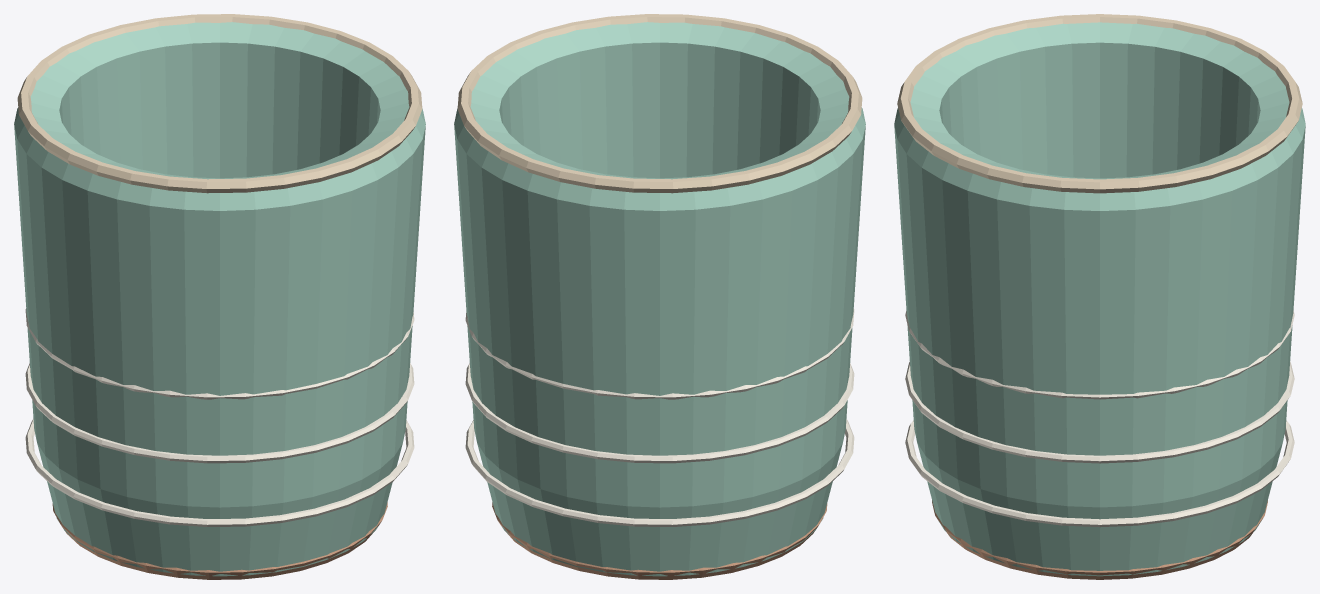
File: kitchen_yunomi.glb
The picture shows the model from 3 angles, left to right: view 1: azimuth 30°, elevation 25°; view 2: azimuth 150°, elevation 25°; view 3: azimuth 270°, elevation 25°; orthographic projection.
Parts seen in each view (by area): view 1: Yunomi tapered glazed vessel, Subtle rim gold, Throwing spiral, Throwing spiral.001, Ground ceramic foot, Throwing spiral.002; view 2: Yunomi tapered glazed vessel, Subtle rim gold, Throwing spiral, Throwing spiral.001, Ground ceramic foot, Throwing spiral.002; view 3: Yunomi tapered glazed vessel, Subtle rim gold, Throwing spiral, Throwing spiral.001, Ground ceramic foot, Throwing spiral.002.
Part boxes in pixels (<box>): Yunomi tapered glazed vessel: <box>14,22,425,576</box>; Subtle rim gold: <box>17,14,422,193</box>; Throwing spiral: <box>25,419,414,526</box>; Throwing spiral.001: <box>25,363,414,463</box>; Ground ceramic foot: <box>52,502,387,579</box>; Throwing spiral.002: <box>25,308,414,399</box>; Yunomi tapered glazed vessel: <box>454,22,865,576</box>; Subtle rim gold: <box>457,14,862,193</box>; Throwing spiral: <box>465,419,854,526</box>; Throwing spiral.001: <box>465,363,854,463</box>; Ground ceramic foot: <box>492,502,827,579</box>; Throwing spiral.002: <box>465,308,854,399</box>; Yunomi tapered glazed vessel: <box>894,22,1305,576</box>; Subtle rim gold: <box>897,14,1302,193</box>; Throwing spiral: <box>905,420,1294,527</box>; Throwing spiral.001: <box>905,362,1294,463</box>; Ground ceramic foot: <box>932,500,1267,579</box>; Throwing spiral.002: <box>905,311,1294,399</box>.
Size of the model in its own units: 1.72 by 1.95 by 1.72.
